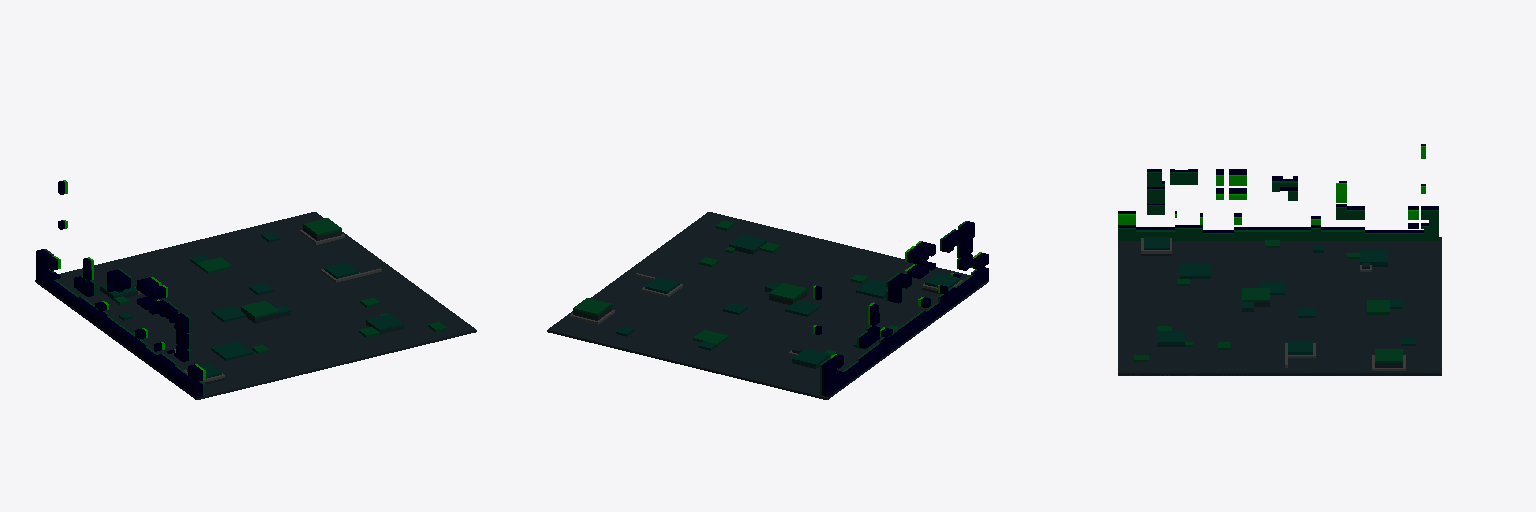
3 renders of one model, left to right at view 1: azimuth 30°, elevation 25°; view 2: azimuth 150°, elevation 25°; view 3: azimuth 270°, elevation 25°, orthographic.
Visible parts, largest first — view 1: object 1; view 2: object 1; view 3: object 1.
Boxes of the visible parts, x1=… form: object 1: x1=35, y1=180, x2=476, y2=399; object 1: x1=547, y1=212, x2=988, y2=399; object 1: x1=1118, y1=144, x2=1441, y2=375.
Bounding box in the file's own units: 12.6 × 4.4 × 12.6.
Materials: 1 (1 with a texture image).